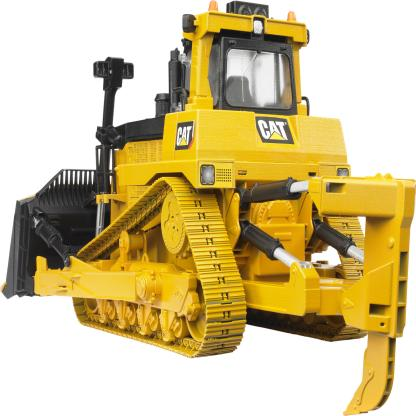bull_dozer/loader/grader: (7, 14, 410, 408)
